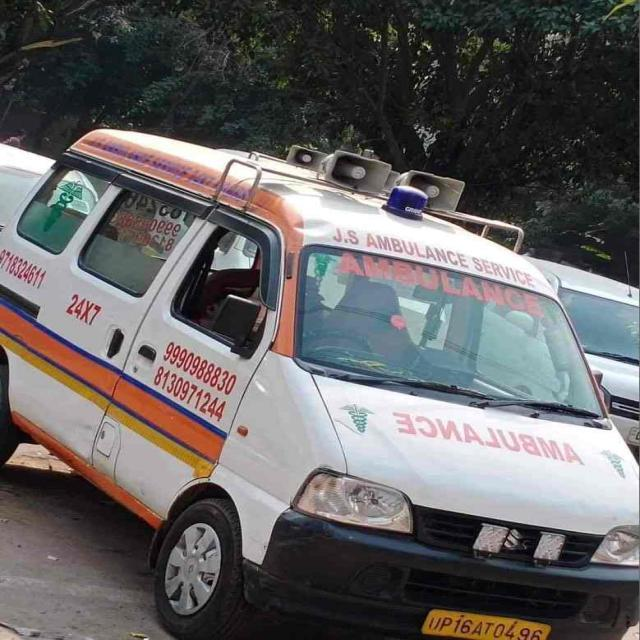Ambulance: (330, 249, 549, 320), (388, 408, 593, 470)
